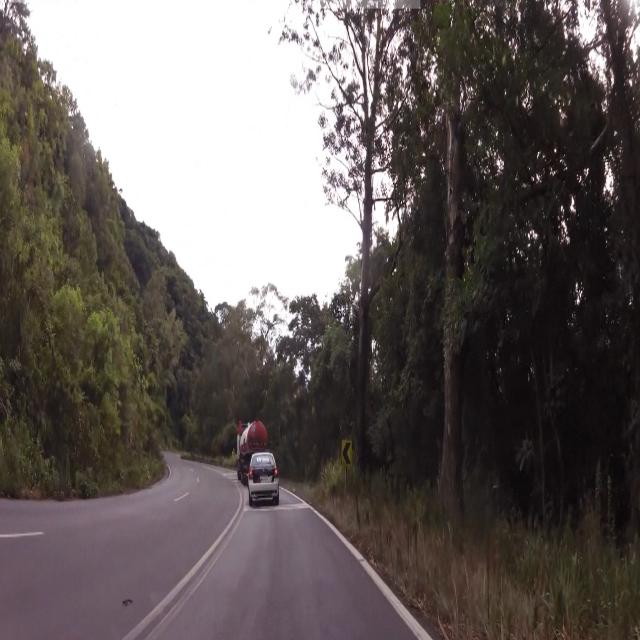Del: (340, 432, 354, 476)
